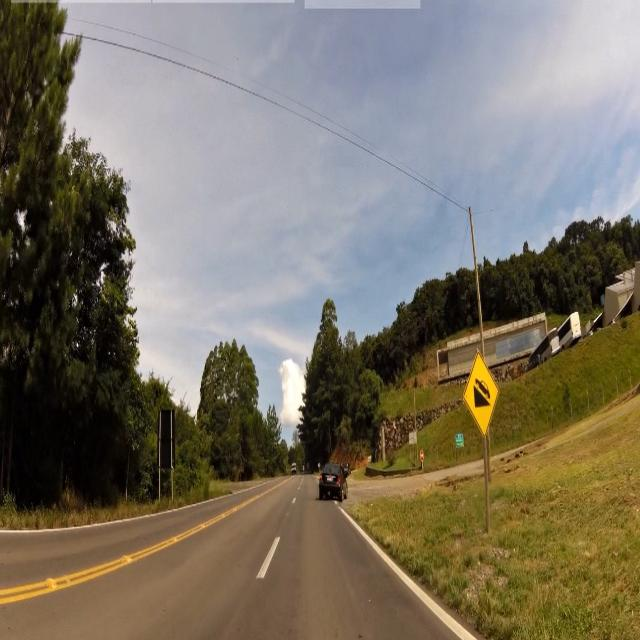A-20b: (458, 352, 504, 454)
